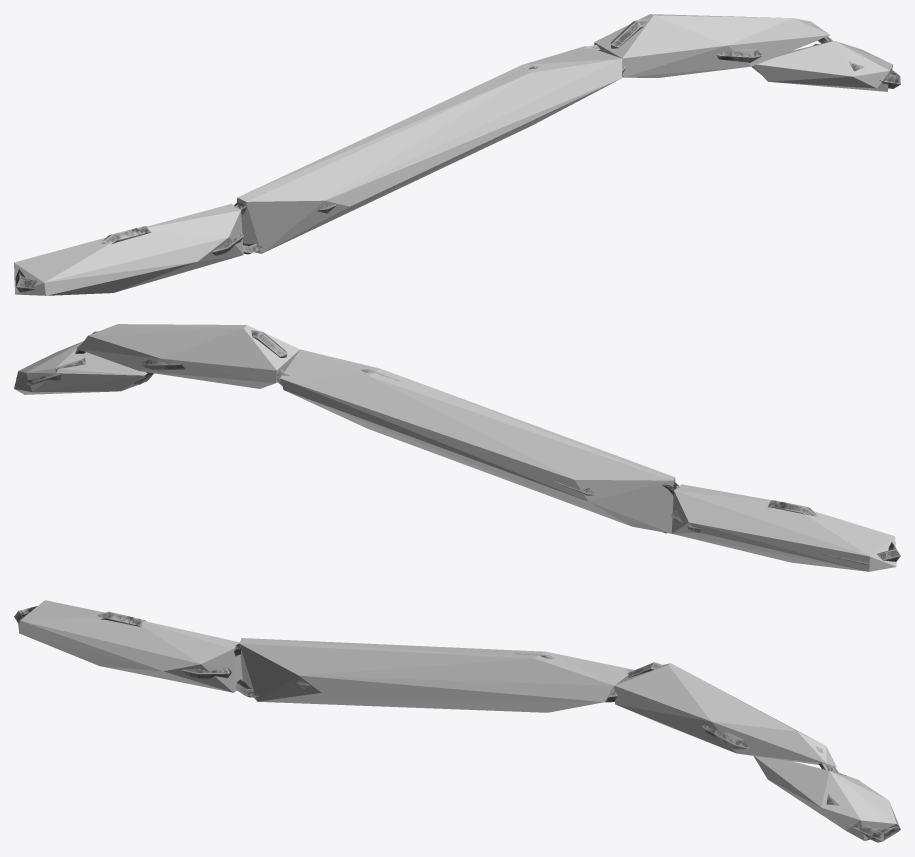
3 renders of one model, top to bottom at view 1: azimuth 30°, elevation 25°; view 2: azimuth 150°, elevation 25°; view 3: azimuth 330°, elevation 25°, orthographic. The views are drawn at different scales.
Parts seen in each view (by area): view 1: SM_20_ConvexHulls, SM_20; view 2: SM_20_ConvexHulls, SM_20; view 3: SM_20_ConvexHulls, SM_20.
Part boxes in pixels (x1,y1,x2,y2): SM_20_ConvexHulls: [14, 14, 892, 295]; SM_20: [15, 19, 900, 292]; SM_20_ConvexHulls: [14, 324, 896, 571]; SM_20: [16, 330, 900, 564]; SM_20_ConvexHulls: [18, 600, 900, 840]; SM_20: [14, 606, 898, 842].
Size of the model in its own units: 651 by 64.67 by 87.09.
Materials: 2 (1 with a texture image).
